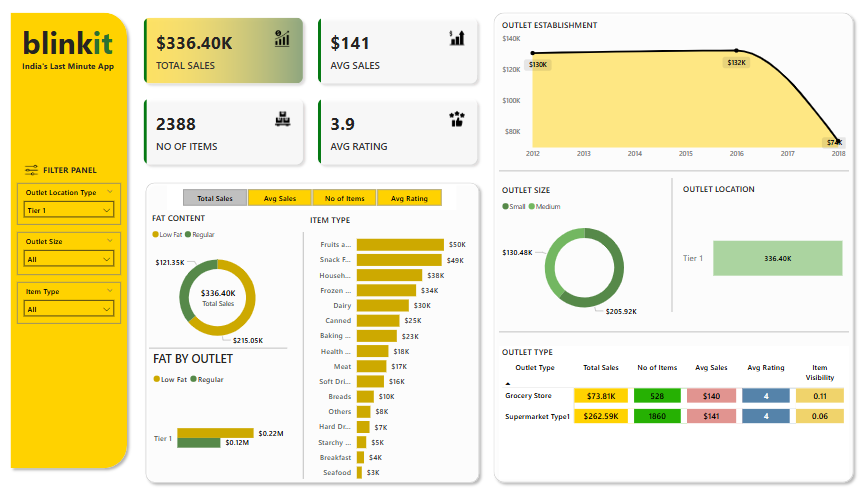

The page's visual inventory and layout, read from the dashboard file:
{"tool":"powerbi","page":{"name":"Page 1","canvas":[1400,800],"ordinal":0},"visuals":[{"type":"shape","box":[16.1,27.3,205,750],"z":0},{"type":"textbox","box":[38.6,46.6,167.1,77.1],"z":1000},{"type":"textbox","box":[38.6,107.6,167.1,32.1],"z":2000},{"type":"cardVisual","fields":{"Data":["BlinkIT Grocery Data.Total Sales","BlinkIT Grocery Data.Avg Sales","BlinkIT Grocery Data.No of Items","BlinkIT Grocery Data.Avg Rating"]},"box":[221.5,27.7,570.8,270.8],"z":3000},{"type":"shape","box":[232.3,300,553.8,500],"z":4000},{"type":"donutChart","title":"FAT CONTENT","fields":{"Y":["BlinkIT Grocery Data.Total Sales"],"Category":["BlinkIT Grocery Data.Item Fat Content"]},"box":[247.7,356.9,220,230.8],"z":5000},{"type":"slicer","fields":{"Values":["Metrics.Metrics"]},"box":[276.9,313.8,464.6,40],"z":6000},{"type":"cardVisual","fields":{"Data":["BlinkIT Grocery Data.Total Sales"]},"box":[307.7,461.5,100,53.8],"z":7000},{"type":"clusteredBarChart","title":"FAT BY OUTLET","fields":{"Y":["BlinkIT Grocery Data.Total Sales"],"Category":["BlinkIT Grocery Data.Outlet Location Type"],"Series":["BlinkIT Grocery Data.Item Fat Content"]},"box":[249,579.9,220.1,220.1],"z":8000},{"type":"shape","box":[246.7,563.3,221.7,23.3],"z":9000},{"type":"shape","box":[480,388.3,30,396.7],"z":10000},{"type":"barChart","title":"ITEM TYPE","fields":{"Y":["BlinkIT Grocery Data.Total Sales"],"Category":["BlinkIT Grocery Data.Item Type"]},"box":[501.7,360,270,440],"z":11000},{"type":"shape","box":[792,27.3,596,772.7],"z":12000},{"type":"lineChart","title":"OUTLET ESTABLISHMENT","fields":{"Y":["BlinkIT Grocery Data.Total Sales"],"Category":["BlinkIT Grocery Data.Outlet Establishment Year"]},"box":[809.6,46.6,562.2,234.5],"z":13000},{"type":"shape","box":[809.6,279.5,562.2,22.5],"z":14000},{"type":"donutChart","title":"OUTLET SIZE","fields":{"Y":["BlinkIT Grocery Data.Total Sales"],"Category":["BlinkIT Grocery Data.Outlet Size"]},"box":[809.6,311.6,274.7,224.9],"z":15000},{"type":"shape","box":[1074.7,302,25.7,215.3],"z":16000},{"type":"funnel","title":"OUTLET LOCATION","fields":{"Y":["Sum(BlinkIT Grocery Data.Sales)"],"Category":["BlinkIT Grocery Data.Outlet Location Type"]},"box":[1100.4,310,271.5,224.9],"z":17000},{"type":"shape","box":[809.6,538.2,562.2,22.5],"z":18000},{"type":"pivotTable","title":"OUTLET TYPE","fields":{"Rows":["BlinkIT Grocery Data.Outlet Type"],"Values":["BlinkIT Grocery Data.Total Sales","BlinkIT Grocery Data.No of Items","BlinkIT Grocery Data.Avg Sales","BlinkIT Grocery Data.Avg Rating","Avg(BlinkIT Grocery Data.Item Visibility)"]},"box":[809.6,571.9,562.2,213.7],"z":19000},{"type":"slicer","fields":{"Values":["BlinkIT Grocery Data.Outlet Location Type"]},"box":[35.3,310,167.1,67.5],"z":20000},{"type":"slicer","fields":{"Values":["BlinkIT Grocery Data.Outlet Size"]},"box":[35.3,388.8,167.1,69.1],"z":21000},{"type":"slicer","fields":{"Values":["BlinkIT Grocery Data.Item Type"]},"box":[35.3,469.1,167.1,67.5],"z":22000},{"type":"textbox","box":[72.3,274.7,109.2,30.5],"z":23000},{"type":"image","box":[38.6,269.9,40.2,38.6],"z":24000}]}

Visuals, with their boxes in screenshot pixels (x1, y1, x2, y2), scaled from the page's 1400x800 canvas onto the 865x488 screenshot:
shape: box(10, 17, 137, 474)
textbox: box(24, 28, 127, 75)
textbox: box(24, 66, 127, 85)
cardVisual - BlinkIT Grocery Data.Total Sales x BlinkIT Grocery Data.Avg Sales: box(137, 17, 490, 182)
shape: box(144, 183, 486, 487)
"FAT CONTENT" donutChart: box(153, 218, 289, 358)
slicer - Metrics.Metrics: box(171, 191, 458, 216)
cardVisual - BlinkIT Grocery Data.Total Sales: box(190, 282, 252, 314)
"FAT BY OUTLET" clusteredBarChart: box(154, 354, 290, 487)
shape: box(152, 344, 289, 358)
shape: box(297, 237, 315, 479)
"ITEM TYPE" barChart: box(310, 220, 477, 487)
shape: box(489, 17, 858, 487)
"OUTLET ESTABLISHMENT" lineChart: box(500, 28, 848, 171)
shape: box(500, 170, 848, 184)
"OUTLET SIZE" donutChart: box(500, 190, 670, 327)
shape: box(664, 184, 680, 316)
"OUTLET LOCATION" funnel: box(680, 189, 848, 326)
shape: box(500, 328, 848, 342)
"OUTLET TYPE" pivotTable: box(500, 349, 848, 479)
slicer - BlinkIT Grocery Data.Outlet Location Type: box(22, 189, 125, 230)
slicer - BlinkIT Grocery Data.Outlet Size: box(22, 237, 125, 279)
slicer - BlinkIT Grocery Data.Item Type: box(22, 286, 125, 327)
textbox: box(45, 168, 112, 186)
image: box(24, 165, 49, 188)
